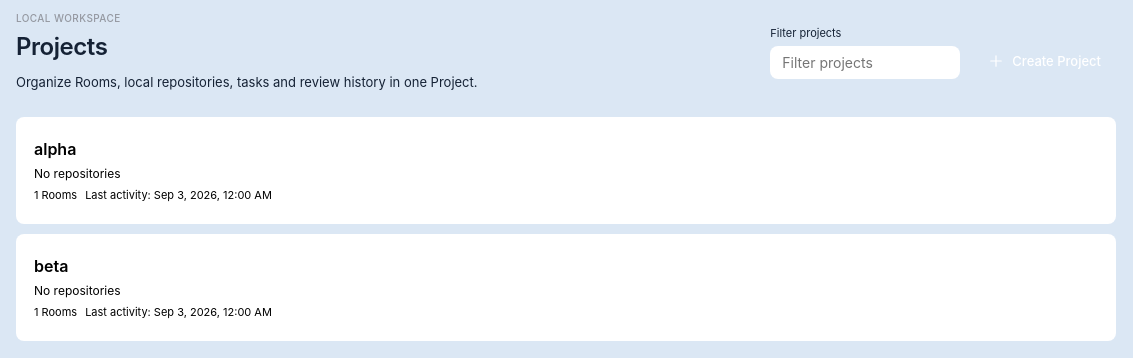
Test: ProjectList › filters Project names locally without changing identity queries
Expected: the text "beta" is shown, [34,256,68,276]
Type "alpha" into the field labelled "Filter projects" at (865, 62), box [770,46,960,79]
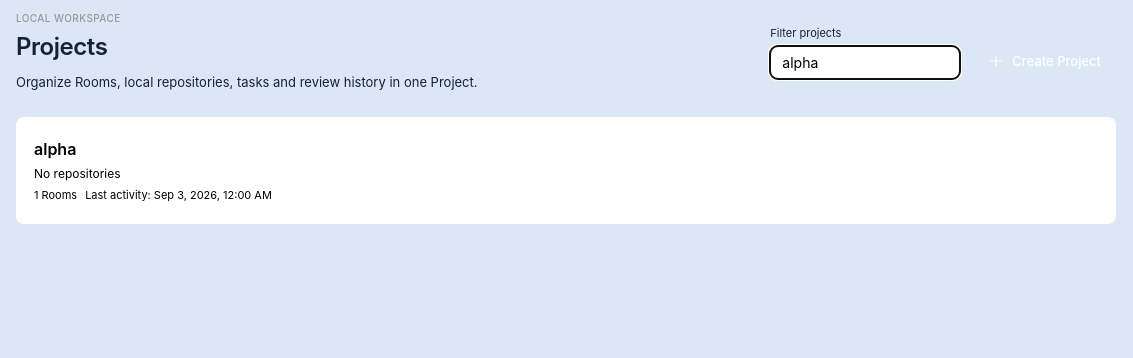
Result: the button "beta" is gone
